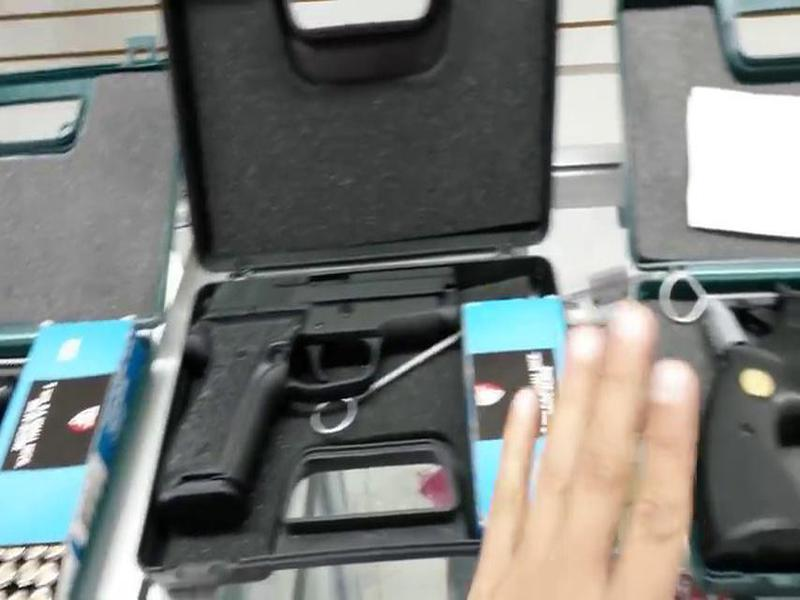Pistola: (147, 252, 488, 540)
